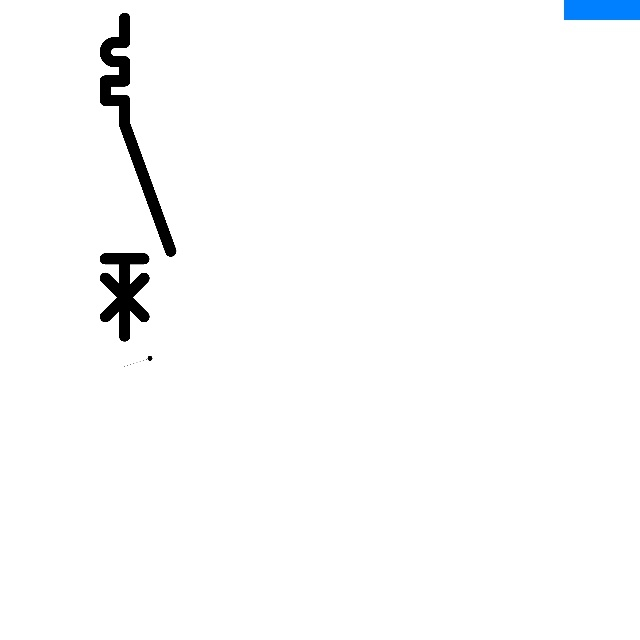interruptor_termomagnetico: (97, 10, 178, 344)
